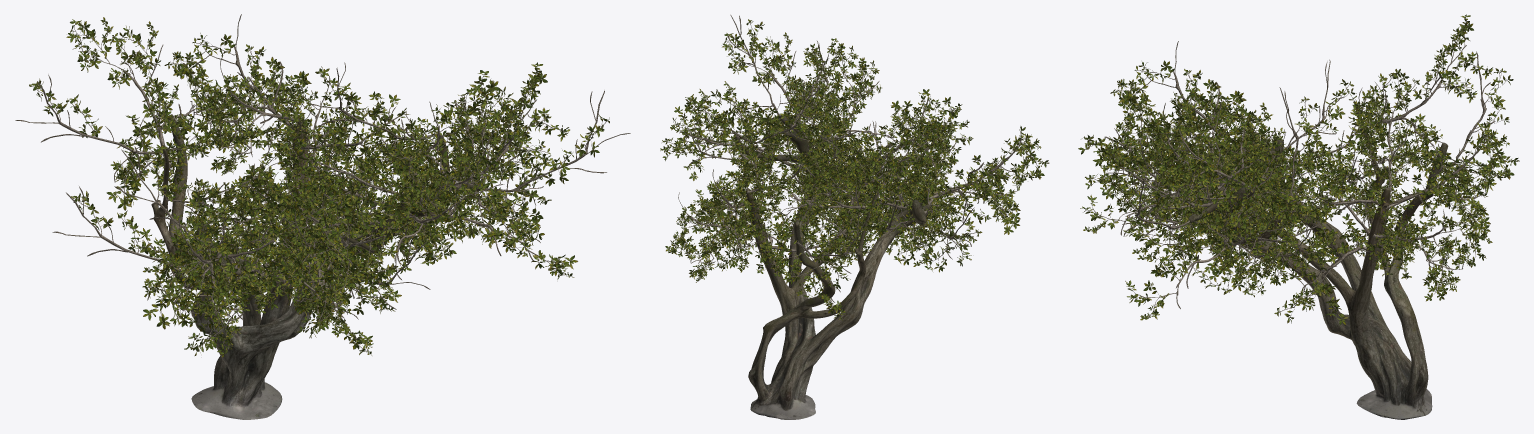
The model's file is tree_bare1.glb.
3 views of the same model, side by side, from view 1: azimuth 30°, elevation 25°; view 2: azimuth 150°, elevation 25°; view 3: azimuth 270°, elevation 25° (orthographic). The views are drawn at different scales.
Visible parts, largest first — view 1: island_tree_02_LOD0; view 2: island_tree_02_LOD0; view 3: island_tree_02_LOD0.
Part boxes in pixels (left/top/right/bottom): island_tree_02_LOD0: left=15, top=14, right=630, bottom=419; island_tree_02_LOD0: left=660, top=14, right=1049, bottom=419; island_tree_02_LOD0: left=1078, top=14, right=1519, bottom=419.
Size of the model in its own units: 4.21 by 3.41 by 4.07.
3 materials, 3 textured.
